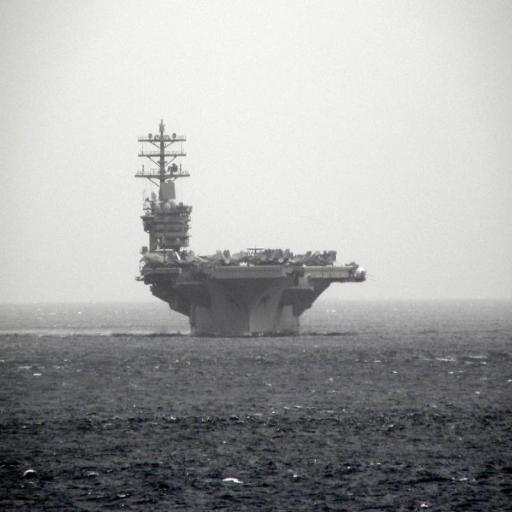Portanaves: (134, 116, 371, 343)
